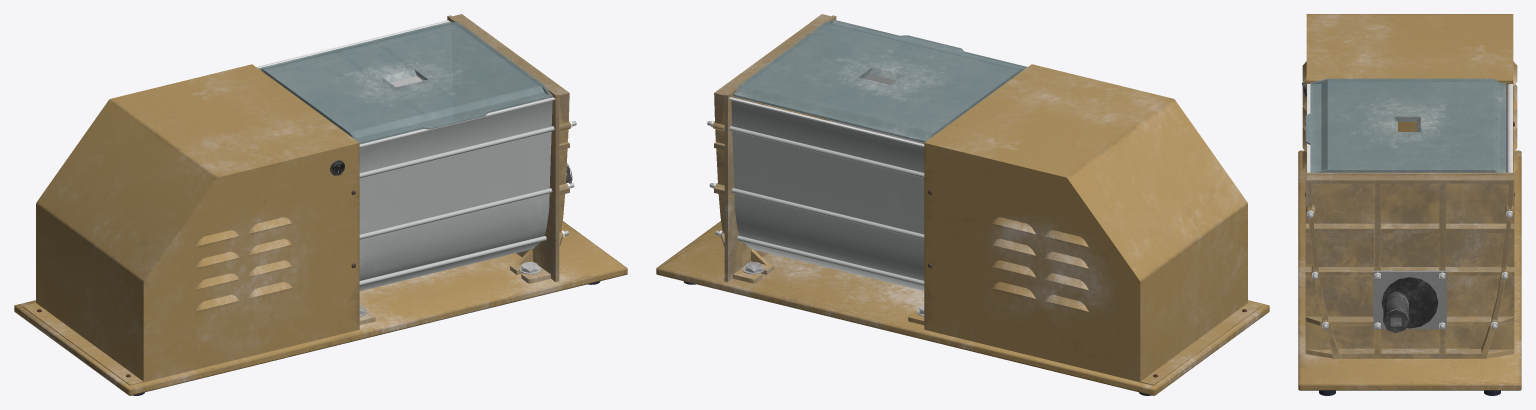
3 views of the same model, side by side, from view 1: azimuth 30°, elevation 25°; view 2: azimuth 150°, elevation 25°; view 3: azimuth 270°, elevation 25° (orthographic). The views are drawn at different scales.
Visible parts, largest first — view 1: Body_low, BodyLoop_low, Cover_low, BodyPlastic_low, MetalRods_low; view 2: Body_low, BodyLoop_low, Cover_low, BodyPlastic_low, MetalRods_low; view 3: BodyPlastic_low, Body_low, Cover_low, MetalPlate_low, Detail_low, BodyLoop_low, Nuts_low, Screws_low.
Boxes of the visible parts, left/top/right/bottom form: Body_low: left=14, top=64, right=627, bottom=395; BodyLoop_low: left=256, top=20, right=555, bottom=290; Cover_low: left=258, top=21, right=552, bottom=144; BodyPlastic_low: left=447, top=14, right=570, bottom=281; MetalRods_low: left=359, top=126, right=554, bottom=285; Body_low: left=656, top=64, right=1269, bottom=395; BodyLoop_low: left=728, top=20, right=1027, bottom=290; Cover_low: left=733, top=20, right=1027, bottom=142; BodyPlastic_low: left=713, top=14, right=836, bottom=282; MetalRods_low: left=729, top=97, right=924, bottom=285; BodyPlastic_low: left=1305, top=172, right=1514, bottom=358; Body_low: left=1298, top=14, right=1521, bottom=390; Cover_low: left=1305, top=78, right=1505, bottom=172; MetalPlate_low: left=1373, top=271, right=1446, bottom=329; Detail_low: left=1302, top=81, right=1500, bottom=395; BodyLoop_low: left=1307, top=84, right=1512, bottom=172; Nuts_low: left=1307, top=210, right=1512, bottom=328; Screws_low: left=1308, top=212, right=1511, bottom=329.
Bounding box in the file's own units: 0.858 × 0.341 × 0.3456.
Materials: 12 (12 with a texture image).
